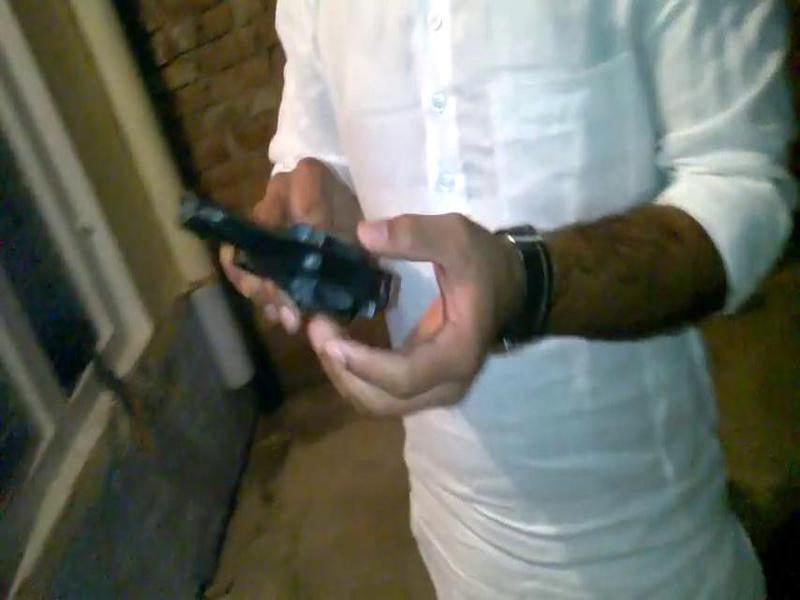Revolver: (170, 143, 446, 369)
